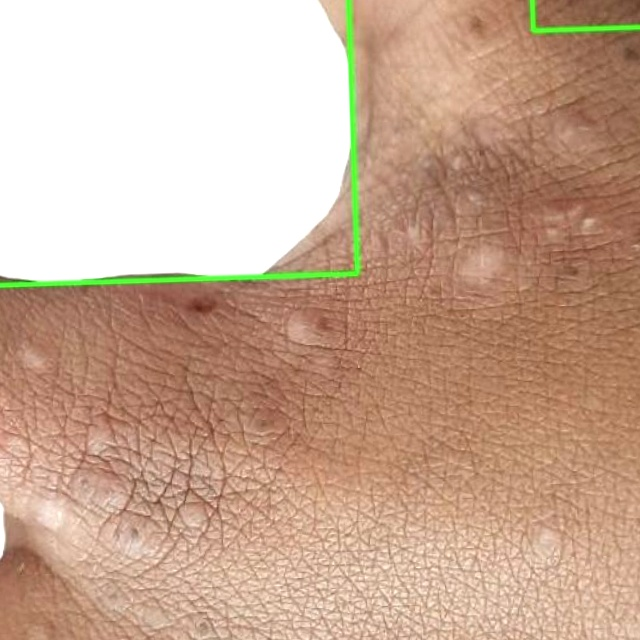Scabies: (0, 0, 357, 285)
